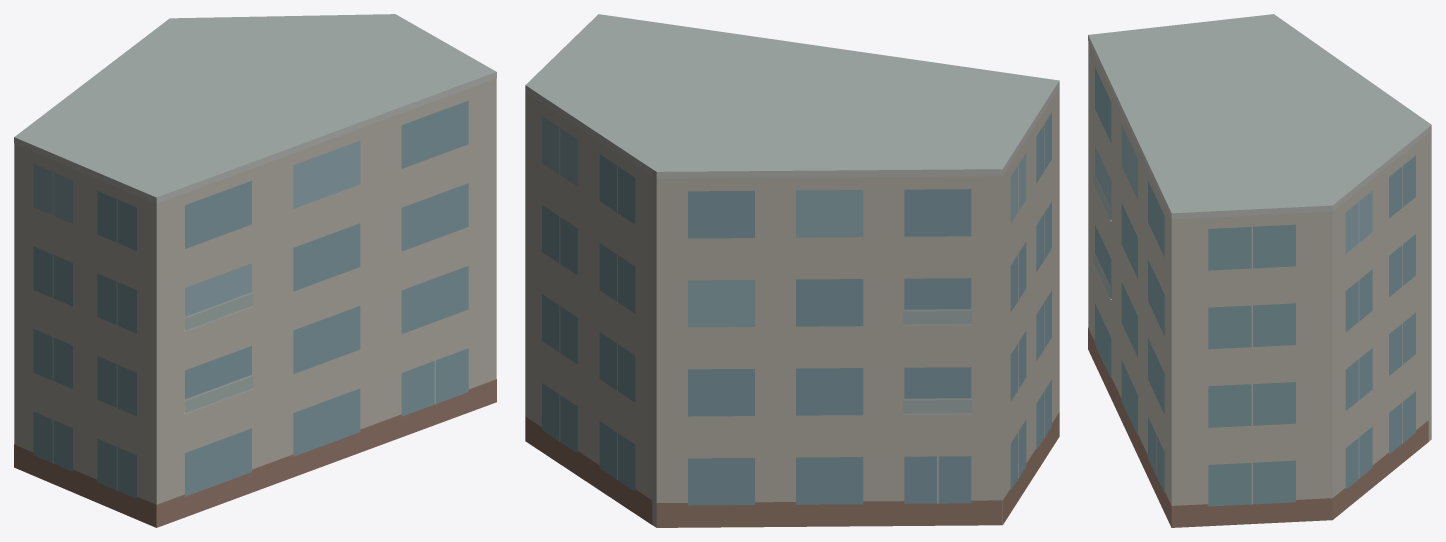
The model's file is survey-upis-32843868.glb.
3 renders of one model, left to right at view 1: azimuth 30°, elevation 25°; view 2: azimuth 150°, elevation 25°; view 3: azimuth 270°, elevation 25°, orthographic. The views are drawn at different scales.
Visible parts, largest first — view 1: survey-upis-32843868.tmp; view 2: survey-upis-32843868.tmp; view 3: survey-upis-32843868.tmp.
Boxes of the visible parts, x1,y1,x2,y2 form: survey-upis-32843868.tmp: [14, 14, 496, 527]; survey-upis-32843868.tmp: [525, 14, 1059, 527]; survey-upis-32843868.tmp: [1088, 14, 1431, 527].
Bounding box in the file's own units: 17.19 × 12.65 × 12.53.
